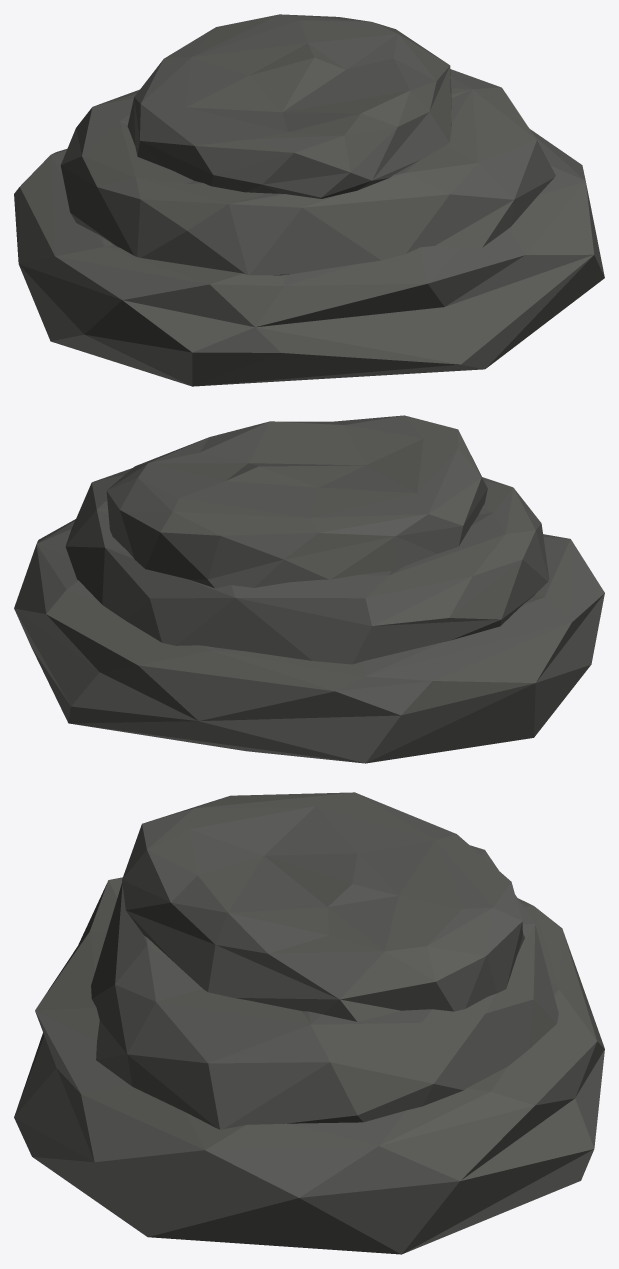
The model's file is SM_Envr_Nature_Rock_08.fbx.
The picture shows the model from 3 angles, top to bottom: view 1: azimuth 30°, elevation 25°; view 2: azimuth 150°, elevation 25°; view 3: azimuth 270°, elevation 25°; orthographic projection. The views are drawn at different scales.
Visible parts, largest first — view 1: SM_Envr_Nature_Rock_08; view 2: SM_Envr_Nature_Rock_08; view 3: SM_Envr_Nature_Rock_08.
Boxes of the visible parts, x1=… form: SM_Envr_Nature_Rock_08: x1=14, y1=14, x2=604, y2=386; SM_Envr_Nature_Rock_08: x1=14, y1=415, x2=604, y2=763; SM_Envr_Nature_Rock_08: x1=14, y1=792, x2=604, y2=1254.
Size of the model in its own units: 267 by 106 by 221.
